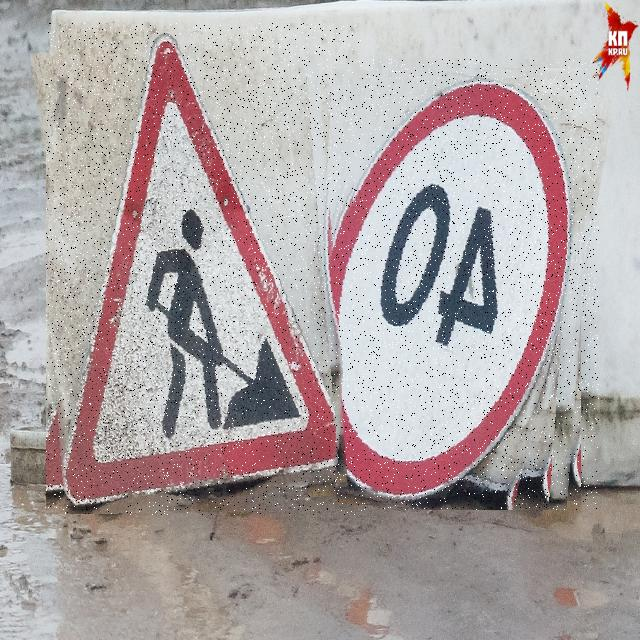roadwork: (46, 23, 364, 515)
speed limit 40: (318, 59, 599, 510)
